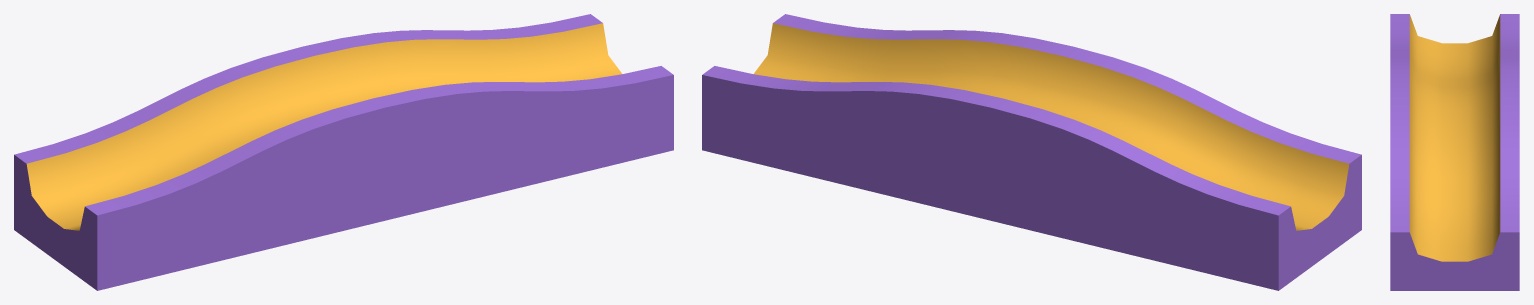
File: bump-solid-a-col.glb
3 views of the same model, side by side, from view 1: azimuth 30°, elevation 25°; view 2: azimuth 150°, elevation 25°; view 3: azimuth 270°, elevation 25° (orthographic). The views are drawn at different scales.
Parts seen in each view (by area): view 1: bump-solid-a-col; view 2: bump-solid-a-col; view 3: bump-solid-a-col.
Boxes of the visible parts, box(x1,y1,x2,y2) form: bump-solid-a-col: box(14, 14, 673, 290); bump-solid-a-col: box(702, 14, 1361, 290); bump-solid-a-col: box(1390, 14, 1519, 290).
Size of the model in its own units: 4 by 0.75 by 1.
1 material, 1 textured.
